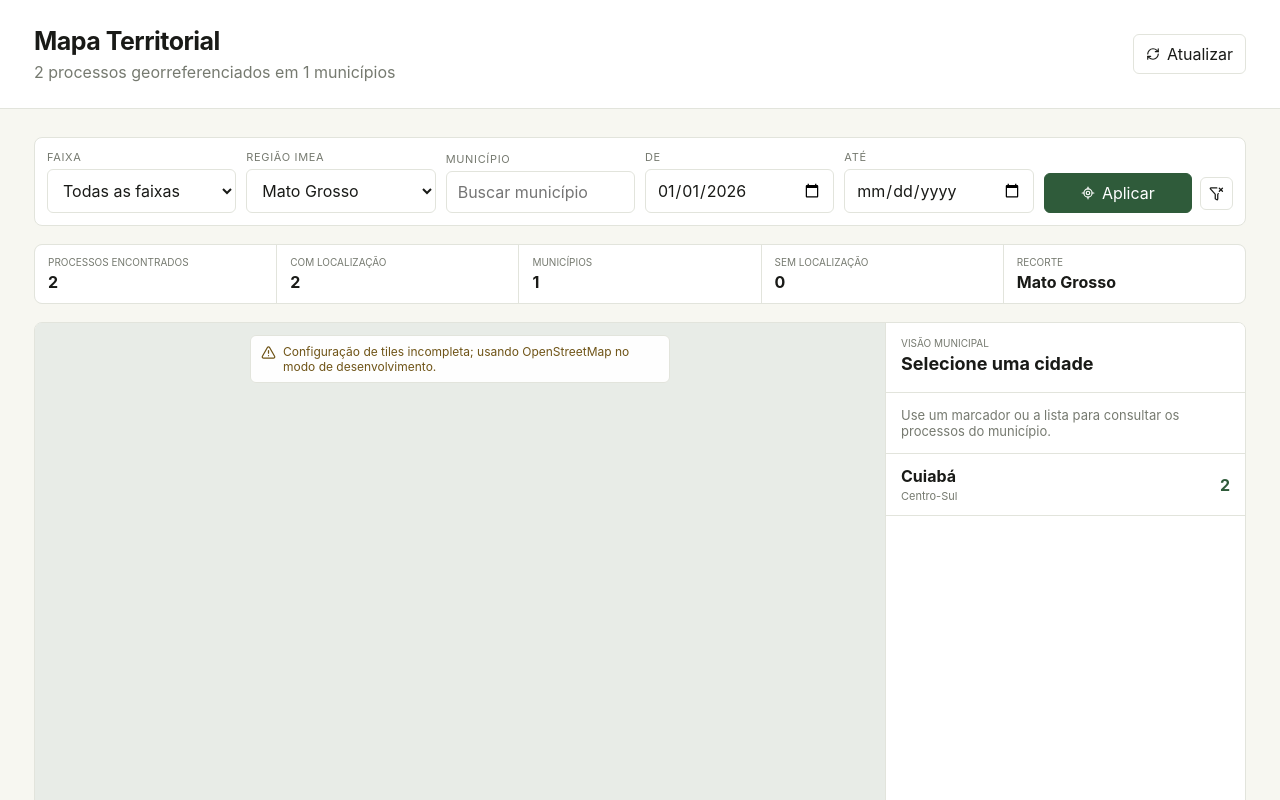
Scenario: municipal process panel › renders a civil distribution date without timezone or time
The width and height of the screenshot is (1280, 800).
Step 1. Click the button "Cuiabá Centro-Sul 2" → click(928, 476), box left=886, top=454, right=1245, bottom=516
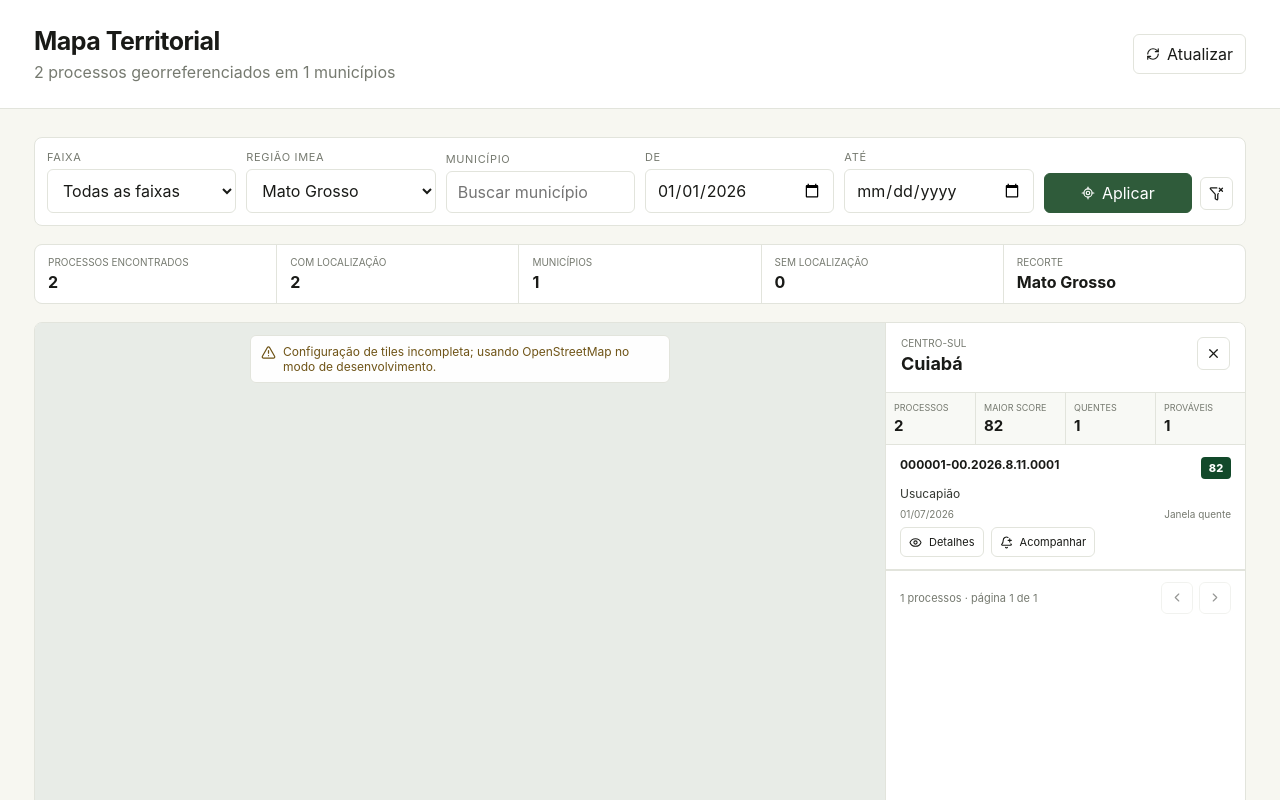
Result: the text "01/07/2026" is shown at left=900, top=508, right=954, bottom=520
